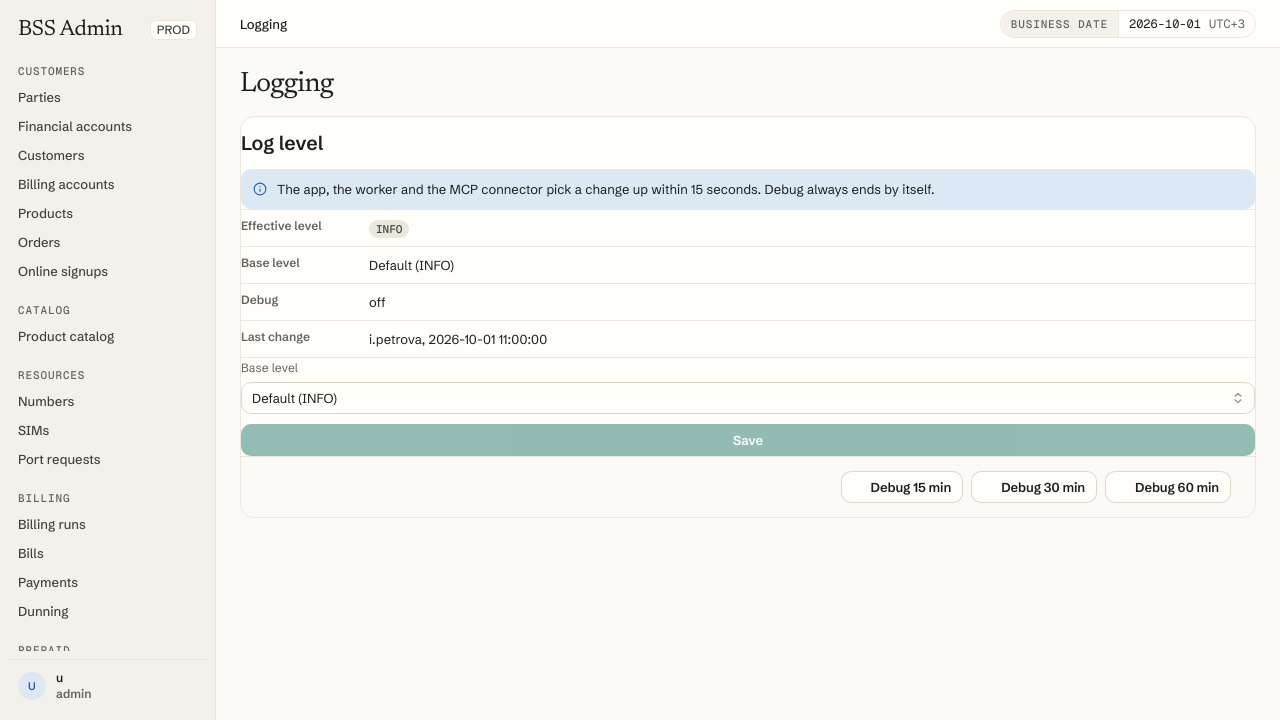
Scenario: logging settings › offers only Refresh after an unanswered change, which reads the settings again
The image size is (1280, 720).
Expected: the heading "Logging" is shown, [240,68,333,100]
Expected: the text "Default (INFO)" is shown, [369,247,1255,284]
Click the button "Debug 30 min".
click(1034, 487)  # box [971,471,1097,503]
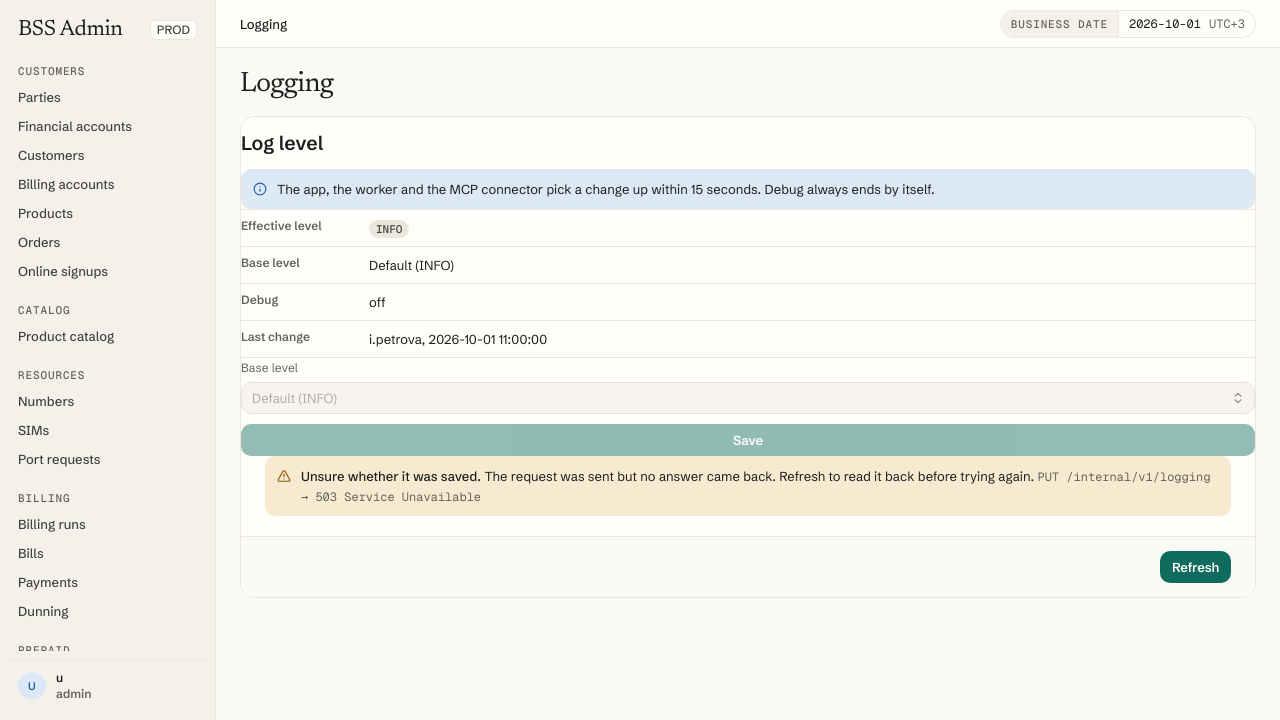
Result: the text "Unsure whether it was saved." is shown at [301,468,481,484]
Result: the button "Debug 15 min" is gone
Click the button "Refresh".
click(1195, 567)  # box [1160,551,1231,583]
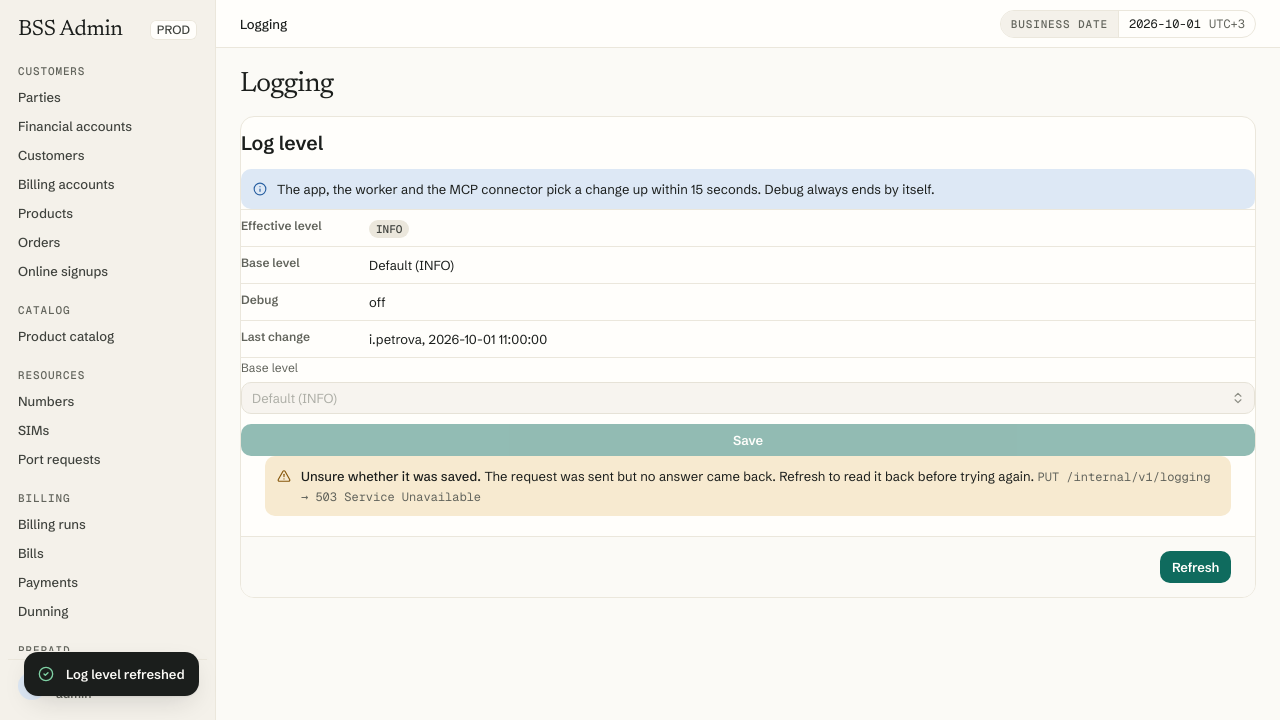
Result: the text "Log level refreshed" is shown at [66,664,185,684]
